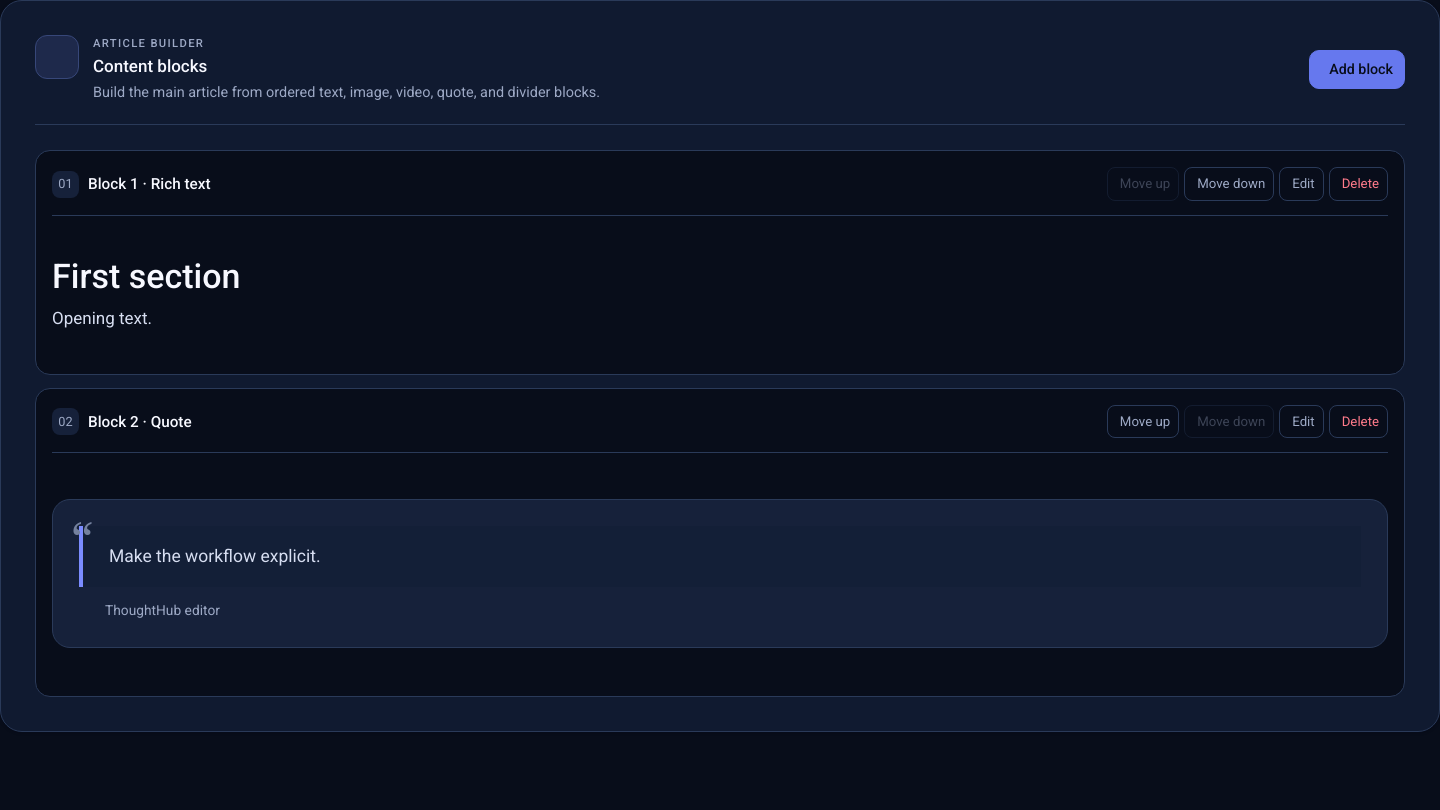
PostBlocksEditor › confirms before deleting a block
Expected: the text "Make the workflow explicit." is shown, [109,546,320,566]
Click the button with aria-label "Delete block 2".
click(1358, 422)  # box [1329,405,1388,438]
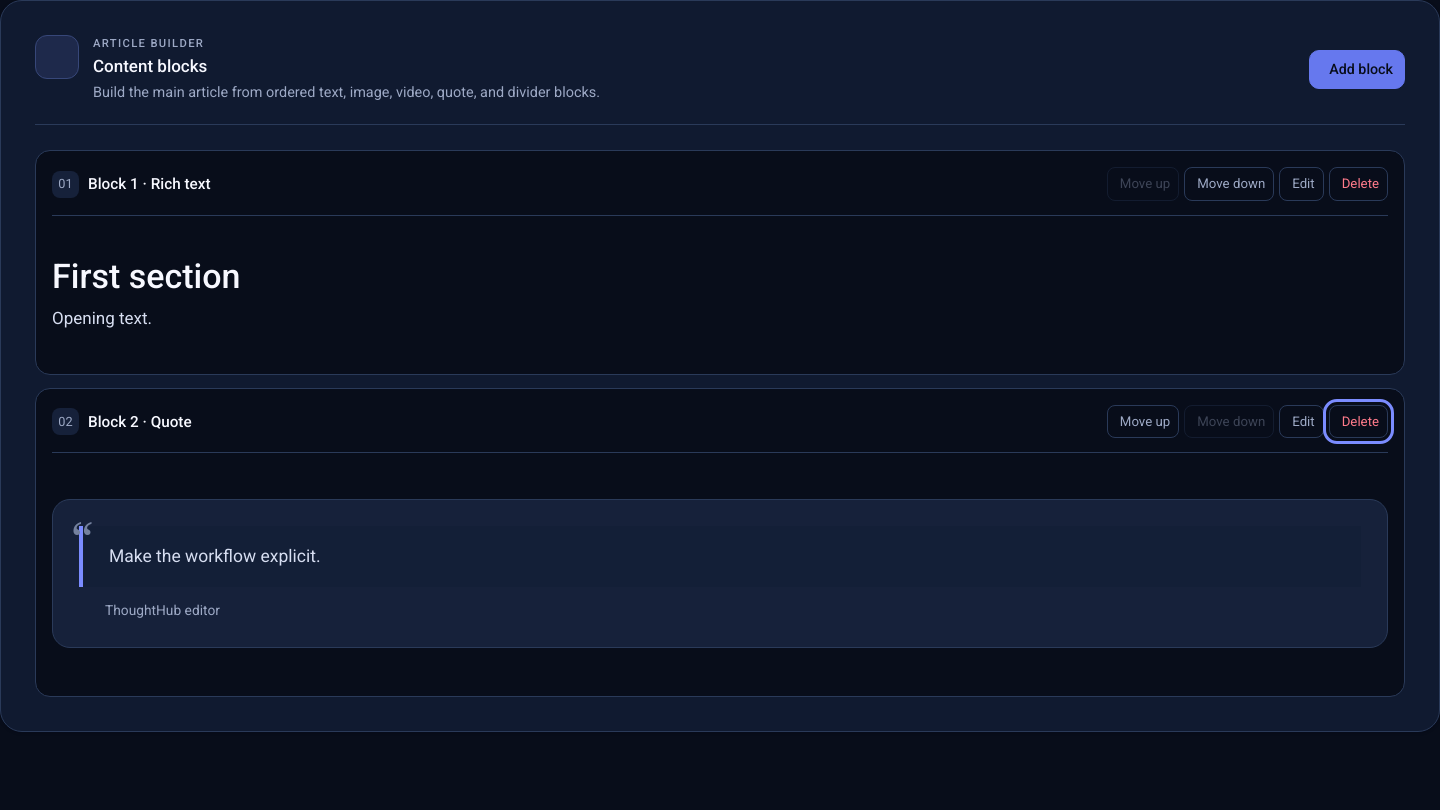
Click the button with aria-label "Delete block 2".
click(1358, 422)  # box [1329,405,1388,438]
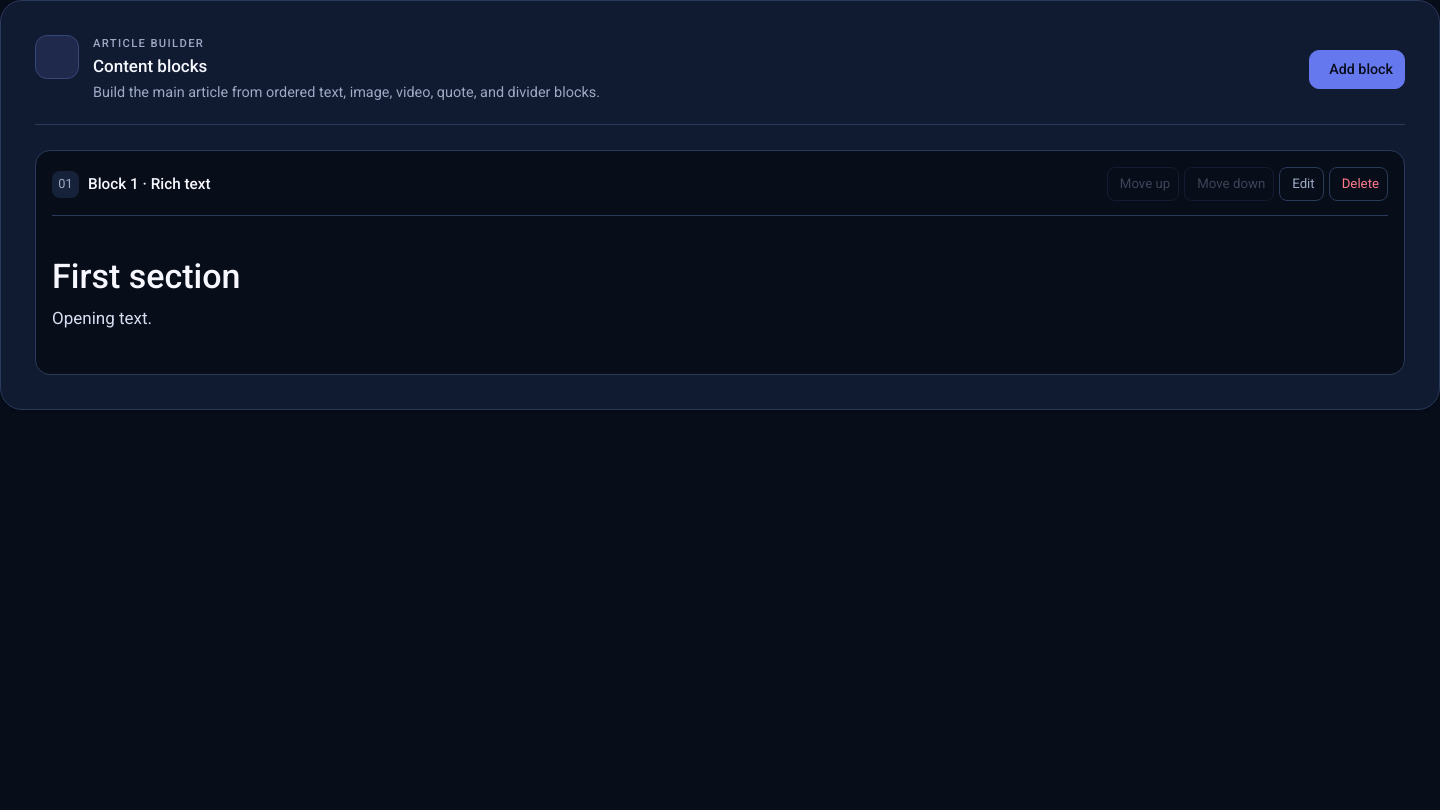
Expected: the text "Make the workflow explicit." is gone
